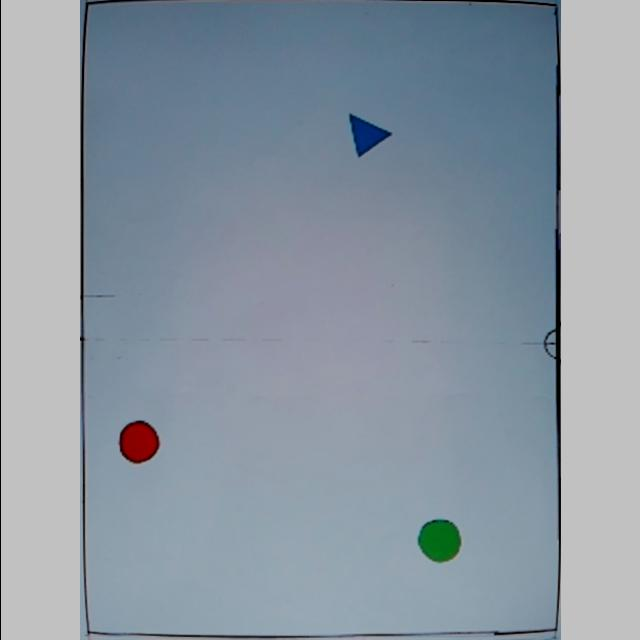blueTriangle: (348, 115, 396, 158)
greenCircle: (418, 520, 464, 564)
redCircle: (118, 419, 160, 463)
